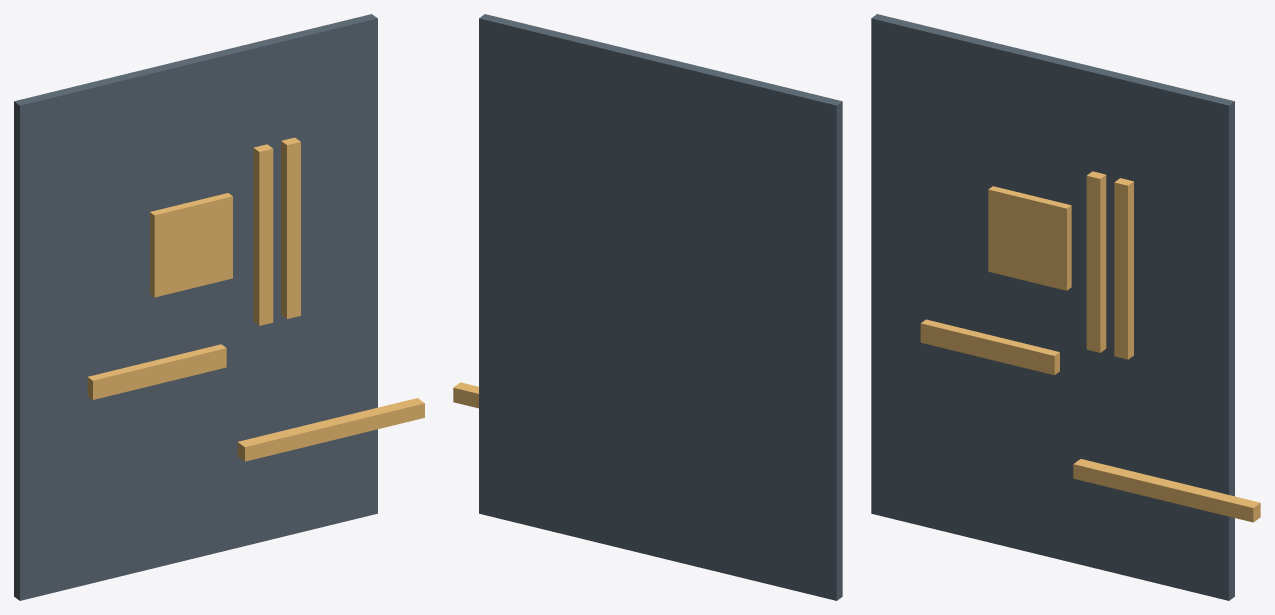
3 renders of one model, left to right at view 1: azimuth 30°, elevation 25°; view 2: azimuth 150°, elevation 25°; view 3: azimuth 330°, elevation 25°, orthographic.
Parts seen in each view (by area): view 1: atx board slab, cpu socket marker, pcie x16 slot marker, dimm slot marker a, dimm slot marker b, m2 slot marker; view 2: atx board slab, pcie x16 slot marker; view 3: atx board slab, cpu socket marker, pcie x16 slot marker, dimm slot marker a, dimm slot marker b, m2 slot marker.
Part boxes in pixels (x1,y1,x2,y2): atx board slab: (14, 14, 377, 600); cpu socket marker: (150, 193, 232, 297); pcie x16 slot marker: (237, 398, 424, 461); dimm slot marker a: (253, 144, 273, 325); dimm slot marker b: (281, 137, 300, 318); m2 slot marker: (87, 344, 226, 399); atx board slab: (479, 14, 842, 600); pcie x16 slot marker: (453, 382, 478, 408); atx board slab: (871, 14, 1234, 600); cpu socket marker: (988, 186, 1071, 290); pcie x16 slot marker: (1073, 459, 1260, 522); dimm slot marker a: (1086, 171, 1106, 352); dimm slot marker b: (1114, 178, 1133, 359); m2 slot marker: (920, 319, 1059, 375).
Bounding box in the file's own units: 1.71 × 2.05 × 0.135.
